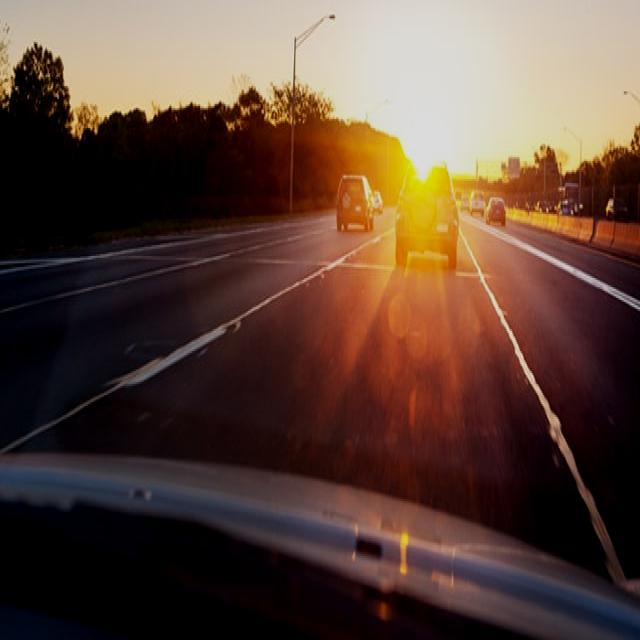Vehicle: (392, 152, 473, 270), (324, 168, 376, 238), (485, 191, 514, 230), (472, 180, 483, 216)
